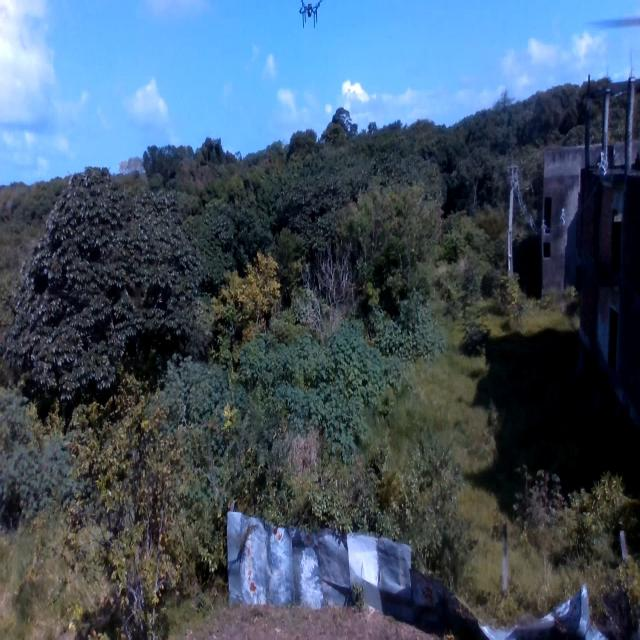-uav-: (294, 2, 327, 31)
